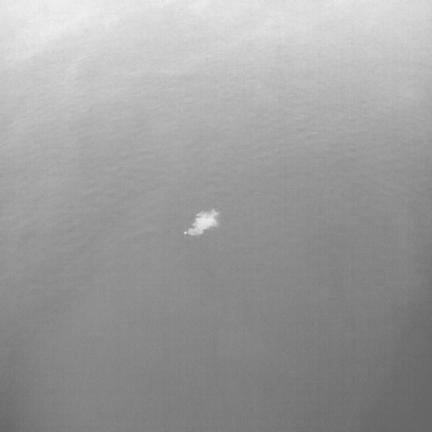flukeprints: (184, 209, 219, 235)
